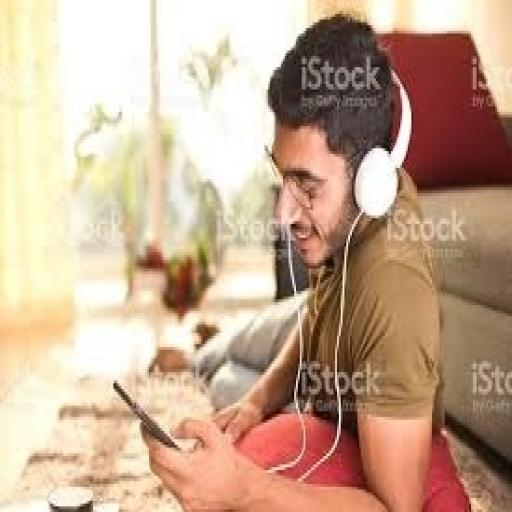listening_to_music: (141, 11, 473, 509)
